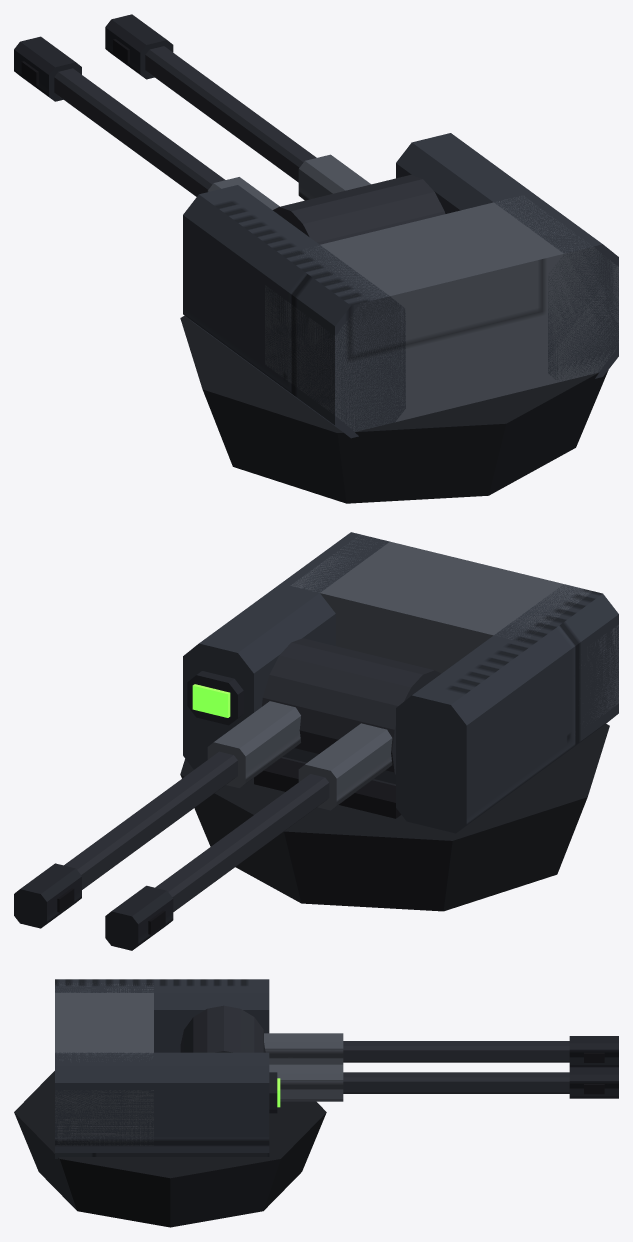
Rendered from juggernaut_turret.glb.
The picture shows the model from 3 angles, top to bottom: view 1: azimuth 30°, elevation 25°; view 2: azimuth 150°, elevation 25°; view 3: azimuth 270°, elevation 25°; orthographic projection. The views are drawn at different scales.
Parts seen in each view (by area): view 1: Turret_Yaw, Turret_Base, Turret_Pitch; view 2: Turret_Yaw, Turret_Pitch, Turret_Base; view 3: Turret_Yaw, Turret_Pitch, Turret_Base.
Part boxes in pixels (x1,y1,x2,y2): Turret_Yaw: [183, 133, 618, 438]; Turret_Base: [180, 315, 608, 503]; Turret_Pitch: [14, 14, 445, 244]; Turret_Yaw: [183, 532, 618, 833]; Turret_Pitch: [14, 638, 441, 950]; Turret_Base: [180, 724, 609, 911]; Turret_Yaw: [55, 979, 280, 1158]; Turret_Pitch: [180, 1005, 618, 1101]; Turret_Base: [14, 1071, 326, 1227].
Bounding box in the file's own units: 7.6 × 4 × 14.7.
7 materials, 3 textured.
